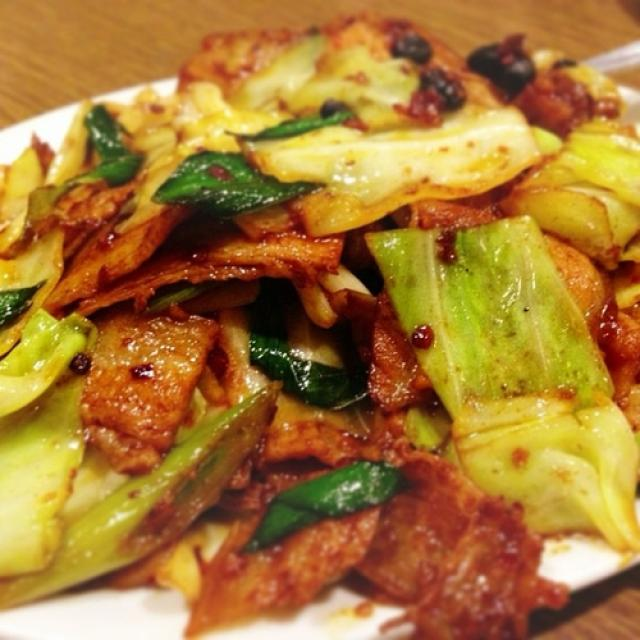猪肉菜式: (23, 39, 620, 588)
